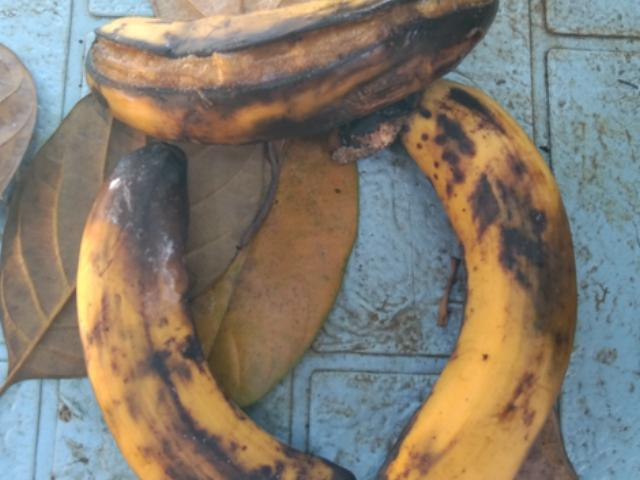overripe: (361, 64, 599, 479)
rotten: (70, 149, 310, 479), (57, 0, 522, 157)
